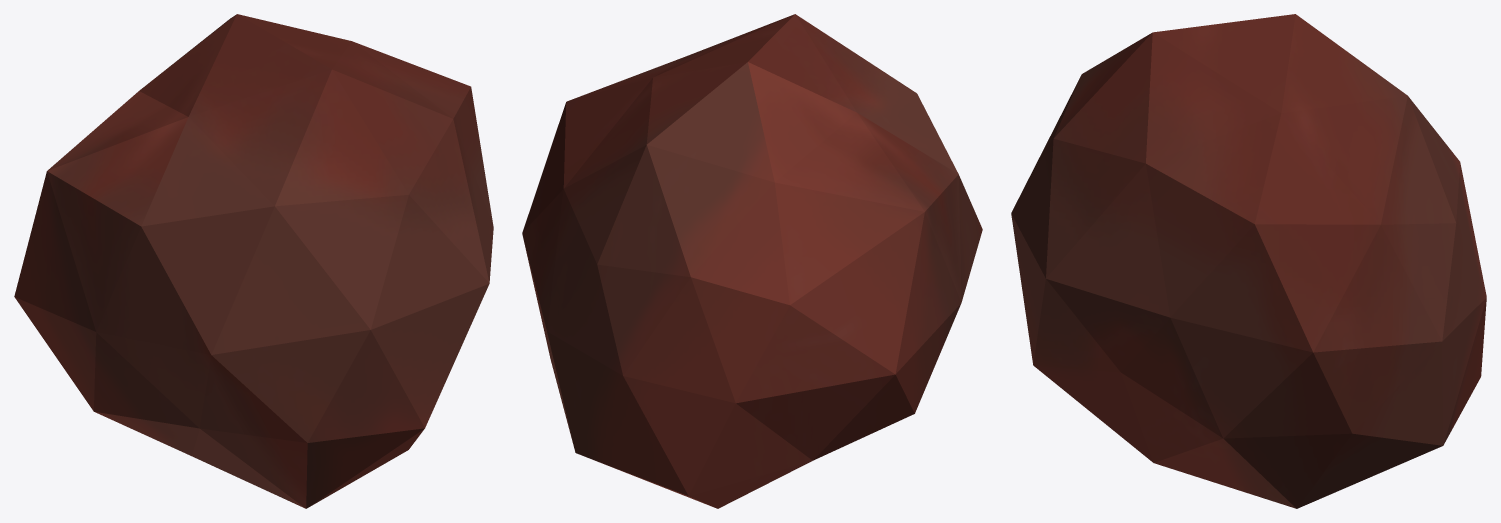
The model's file is rock.fbx.
3 renders of one model, left to right at view 1: azimuth 30°, elevation 25°; view 2: azimuth 150°, elevation 25°; view 3: azimuth 270°, elevation 25°, orthographic. The views are drawn at different scales.
Visible parts, largest first — view 1: Icosphere; view 2: Icosphere; view 3: Icosphere.
Part boxes in pixels (x1=…): Icosphere: x1=14, y1=14, x2=493, y2=508; Icosphere: x1=522, y1=14, x2=982, y2=508; Icosphere: x1=1011, y1=14, x2=1486, y2=508.
Bounding box in the file's own units: 145 × 154 × 144.
